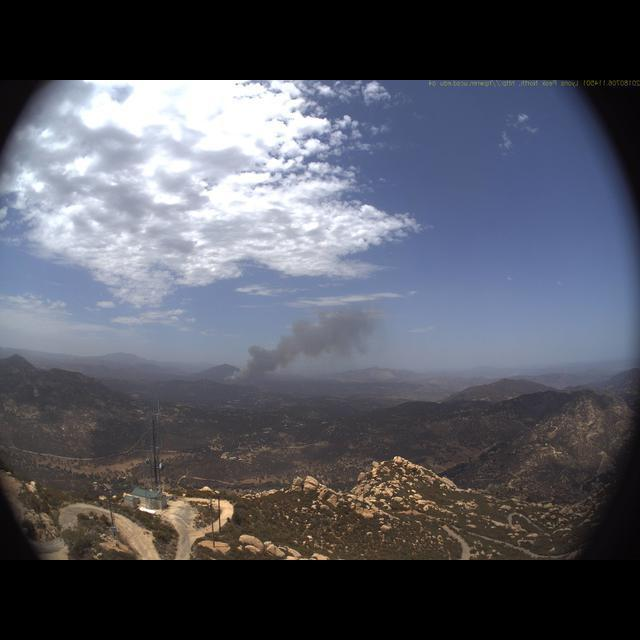Smoke: (216, 298, 384, 398)
